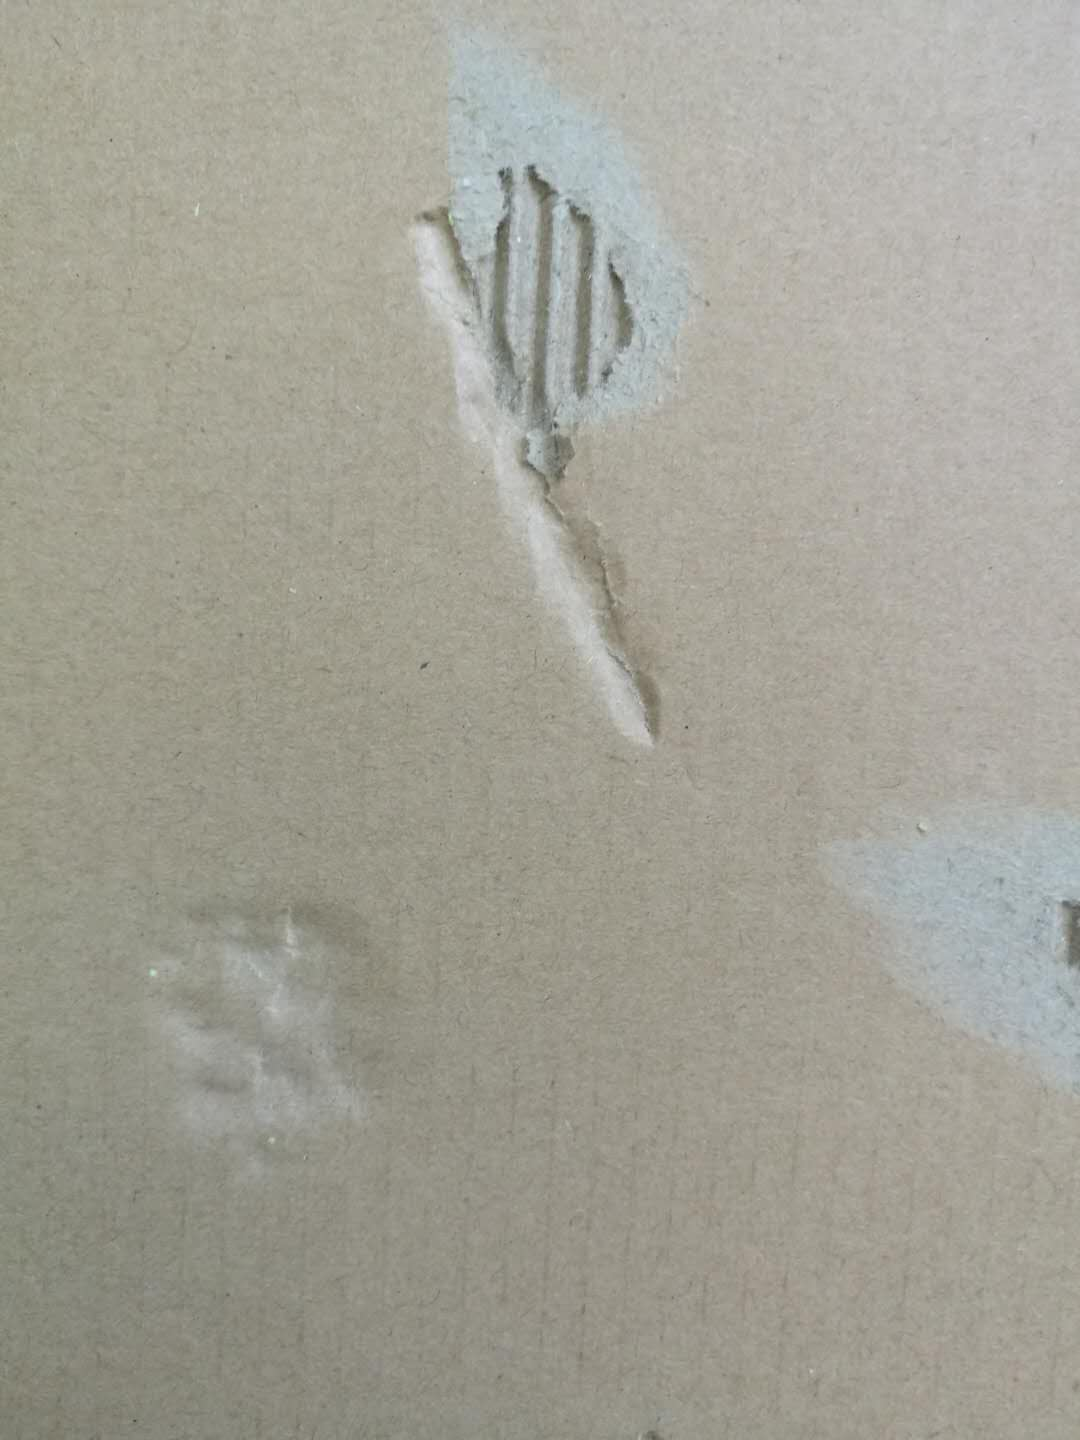defect: (372, 7, 757, 768), (117, 862, 445, 1221), (795, 783, 1080, 1110)
